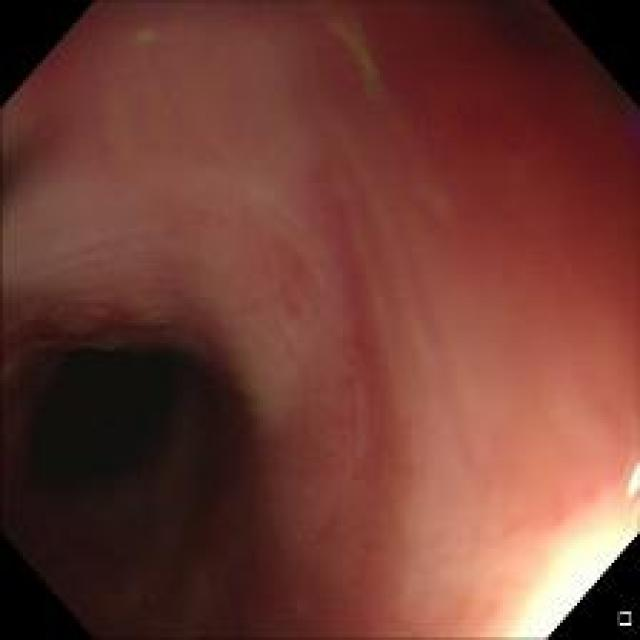blur: (265, 116, 490, 599)
color misalignment: (291, 2, 396, 106)
contrast: (0, 291, 284, 630)
saturation: (500, 518, 632, 632)
specularity: (624, 458, 638, 498)
